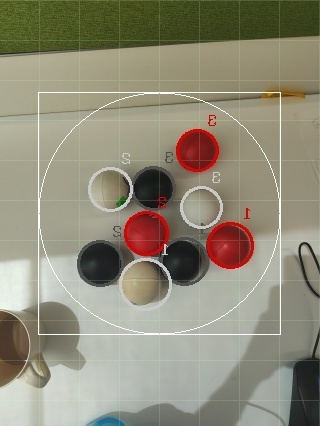Pelota blanca: (119, 257, 175, 307), (0, 308, 33, 387), (87, 166, 135, 211), (181, 185, 225, 230), (42, 334, 87, 371), (40, 300, 81, 336), (236, 401, 289, 425), (27, 355, 52, 389), (85, 414, 129, 425)
Pelota negra: (162, 236, 212, 286), (77, 238, 124, 288), (133, 164, 177, 211)
Pelota roja: (207, 220, 257, 270), (175, 126, 222, 174), (125, 209, 172, 256)
